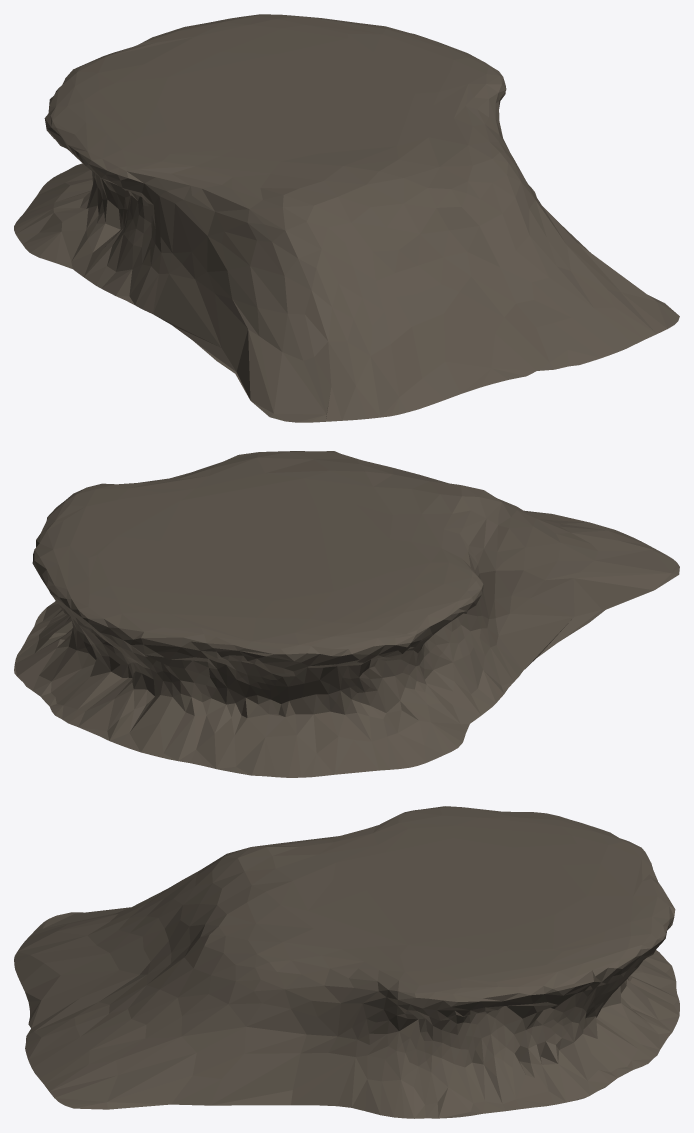
File: bog_hill.gltf
3 renders of one model, top to bottom at view 1: azimuth 30°, elevation 25°; view 2: azimuth 150°, elevation 25°; view 3: azimuth 270°, elevation 25°, orthographic. The views are drawn at different scales.
Parts seen in each view (by area): view 1: bog_hill; view 2: bog_hill; view 3: bog_hill.
Boxes of the visible parts, x1,y1,x2,y2 form: bog_hill: (14, 14, 679, 422); bog_hill: (14, 451, 679, 777); bog_hill: (14, 806, 679, 1118).
Size of the model in its own units: 20.47 by 5.43 by 27.16.
1 material, 1 textured.
